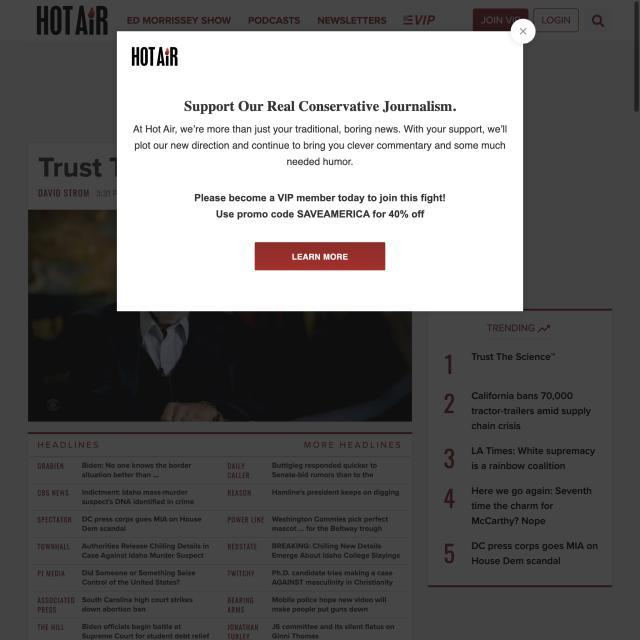button: (252, 242, 389, 276)
modal: (106, 16, 548, 326)
text: (123, 92, 517, 222)
